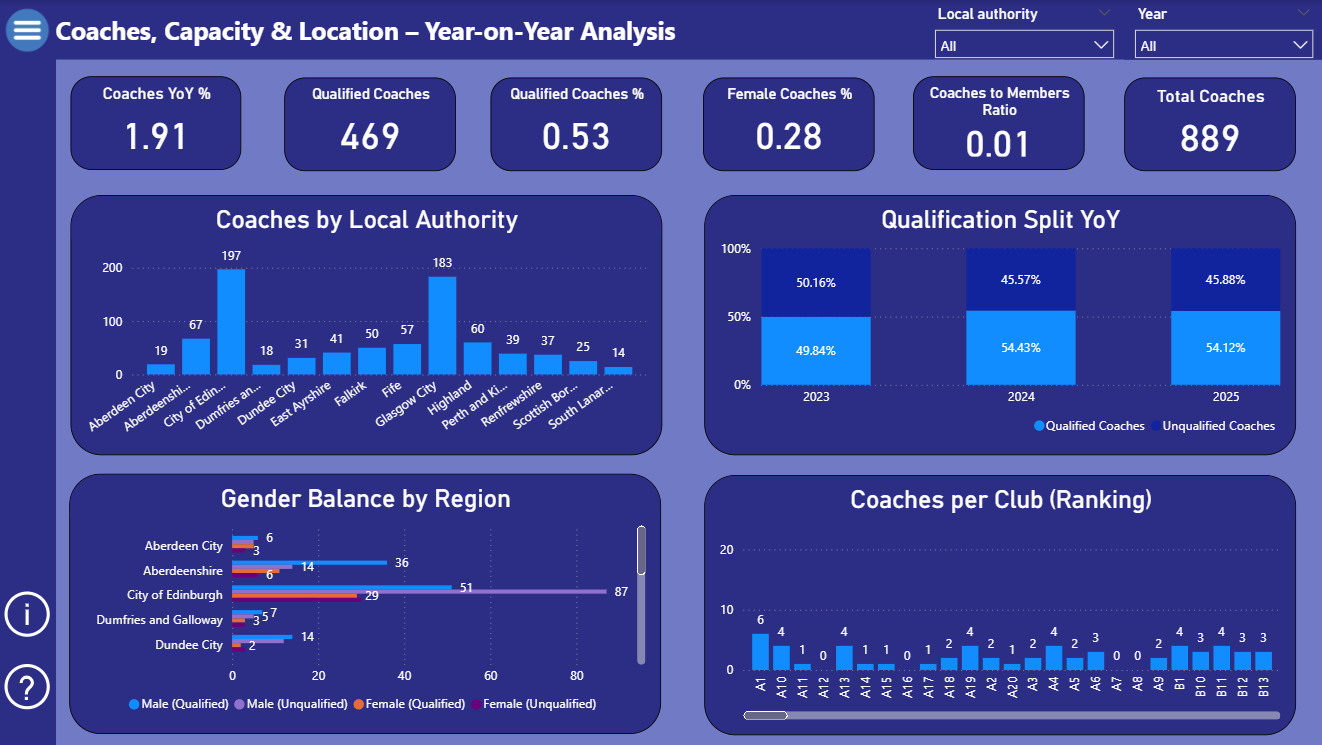

What the dashboard file says about the page in this screenshot:
{"tool":"powerbi","page":{"name":"Coaches","canvas":[1280,720],"ordinal":2},"visuals":[{"type":"shape","title":"Menu Bar","box":[0,0,56.2,720],"z":0,"group":"g1"},{"type":"shape","title":"Page Title","box":[55.9,0,1224.1,57.5],"z":0},{"type":"card","title":"Coaches YoY %","fields":{"Values":["Coaches.Coaches YoY %"]},"box":[70,74,165,90],"z":1000},{"type":"actionButton","title":"Help Button","box":[0,635,56.2,56.2],"z":1000,"group":"g1"},{"type":"card","title":"Qualified Coaches","fields":{"Values":["Coaches.Qualified Coaches"]},"box":[275.7,74.3,165.7,90],"z":2000},{"type":"actionButton","title":"Info","box":[0,565,56.2,56.2],"z":2000,"group":"g1"},{"type":"actionButton","title":"Menu Button","box":[0,0,56.2,57.5],"z":3000,"group":"g1"},{"type":"card","title":"Qualified Coaches %","fields":{"Values":["Coaches.Qualified %"]},"box":[475.7,74.3,165.7,90],"z":3000},{"type":"card","title":"Female Coaches %","fields":{"Values":["Coaches.Female Coaches %"]},"box":[680,74.3,165.7,90],"z":4000},{"type":"card","title":"Coaches to Members Ratio","fields":{"Values":["Coaches.Coaches-to-Members Ratio"]},"box":[883.6,73.7,165.7,90],"z":5000},{"type":"card","title":"Total Coaches","fields":{"Values":["Coaches.Total Coaches"]},"box":[1087.1,74.3,165.7,90],"z":6000},{"type":"clusteredColumnChart","title":"Coaches by Local Authority","fields":{"Category":["Clubs.Local  authority"],"Y":["Coaches.Total Coaches"]},"box":[70.3,188.2,571,251],"z":7000},{"type":"clusteredBarChart","title":"Gender Balance by Region","fields":{"Y":["Sum(Coaches.Male (Qualified))","Sum(Coaches.Male (Unqualified))","Sum(Coaches.Female (Qualified))","Sum(Coaches.Female (Unqualified))"],"Category":["Clubs.Local  authority"]},"box":[69,456.8,571,251],"z":8000},{"type":"clusteredColumnChart","title":" Coaches per Club (Ranking)","fields":{"Category":["Coaches.Clubname"],"Y":["Coaches.Total Coaches"]},"box":[681.4,458,571,251],"z":9000},{"type":"hundredPercentStackedColumnChart","title":"Qualification Split YoY","fields":{"Category":["Coaches.Year"],"Y":["Coaches.Qualified Coaches","Coaches.Unqualified Coaches"]},"box":[681.4,188.2,571,251],"z":10000},{"type":"group","id":"g1","title":"Menu Bar","box":[0,0,56.2,720],"z":12000},{"type":"slicer","title":"Local Authority Slicer(Part)","fields":{"Values":["Clubs.Local  authority"]},"box":[893.6,0,193.2,57.2],"z":13000},{"type":"slicer","title":"Local Authority Slicer(Part)","fields":{"Values":["Coaches.Year"]},"box":[1087.5,0,192.5,57.5],"z":14000}]}

Visuals, with their boxes in screenshot pixels (x1, y1, x2, y2), scaled from the page's 1280x720 canvas onto the 1322x745 screenshot:
"Menu Bar" shape: x1=0 y1=0 x2=58 y2=744
"Page Title" shape: x1=58 y1=0 x2=1321 y2=59
"Coaches YoY %" card: x1=72 y1=77 x2=243 y2=170
"Help Button" actionButton: x1=0 y1=657 x2=58 y2=715
"Qualified Coaches" card: x1=285 y1=77 x2=456 y2=170
"Info" actionButton: x1=0 y1=585 x2=58 y2=643
"Menu Button" actionButton: x1=0 y1=0 x2=58 y2=59
"Qualified Coaches %" card: x1=491 y1=77 x2=662 y2=170
"Female Coaches %" card: x1=702 y1=77 x2=873 y2=170
"Coaches to Members Ratio" card: x1=913 y1=76 x2=1084 y2=169
"Total Coaches" card: x1=1123 y1=77 x2=1294 y2=170
"Coaches by Local Authority" clusteredColumnChart: x1=73 y1=195 x2=662 y2=454
"Gender Balance by Region" clusteredBarChart: x1=71 y1=473 x2=661 y2=732
" Coaches per Club (Ranking)" clusteredColumnChart: x1=704 y1=474 x2=1293 y2=734
"Qualification Split YoY" hundredPercentStackedColumnChart: x1=704 y1=195 x2=1293 y2=454
"Menu Bar" group: x1=0 y1=0 x2=58 y2=744
"Local Authority Slicer(Part)" slicer: x1=923 y1=0 x2=1122 y2=59
"Local Authority Slicer(Part)" slicer: x1=1123 y1=0 x2=1321 y2=59
